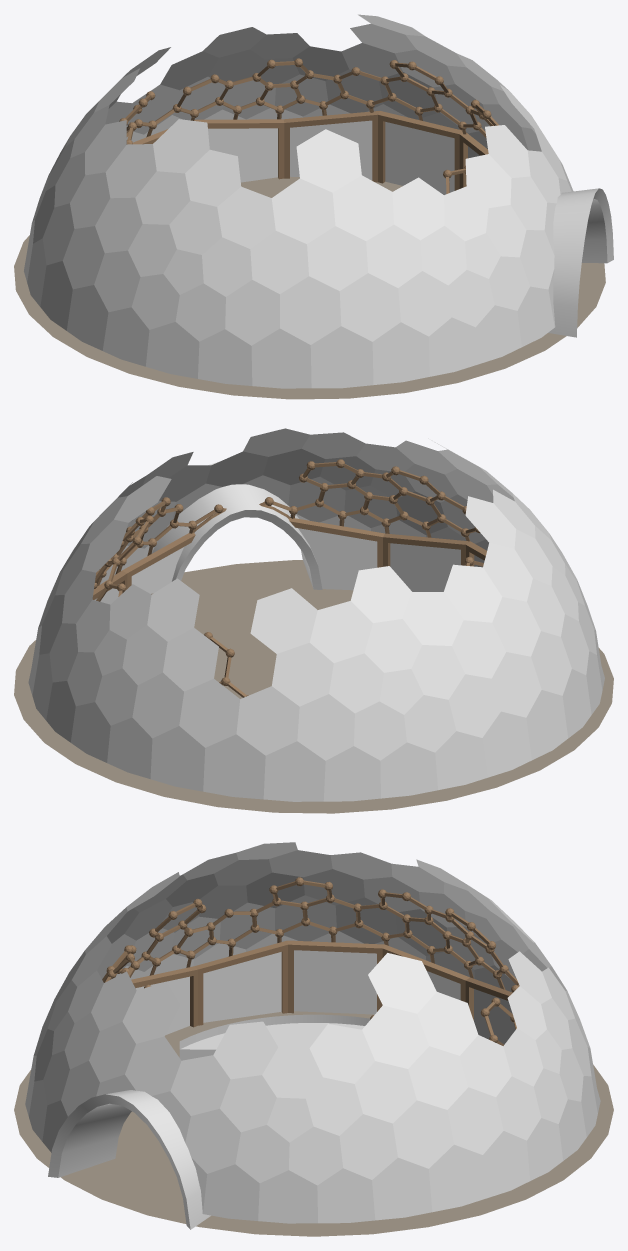
File: BOD_v8_Env.glb
3 views of the same model, one above another, from view 1: azimuth 30°, elevation 25°; view 2: azimuth 150°, elevation 25°; view 3: azimuth 270°, elevation 25° (orthographic).
Parts seen in each view (by area): view 1: Dome_v2_b_dissolving, Walls, Ground, Gate, Dome_v2_dissolving_wp, ICO球.097; view 2: Dome_v2_b_dissolving, Ground, Walls, Gate, Dome_v2_dissolving_wp, ICO球.097; view 3: Dome_v2_b_dissolving, Walls, Ground, Gate, Dome_v2_dissolving_wp, ICO球.097, Stage.
Part boxes in pixels (bbox=[...]): Dome_v2_b_dissolving: bbox=[24, 14, 573, 388]; Walls: bbox=[133, 111, 488, 194]; Ground: bbox=[14, 176, 605, 399]; Gate: bbox=[548, 188, 613, 337]; Dome_v2_dissolving_wp: bbox=[125, 61, 498, 193]; ICO球.097: bbox=[119, 58, 491, 178]; Dome_v2_b_dissolving: bbox=[28, 428, 604, 801]; Ground: bbox=[14, 560, 613, 813]; Walls: bbox=[92, 518, 486, 604]; Gate: bbox=[151, 461, 322, 589]; Dome_v2_dissolving_wp: bbox=[95, 462, 483, 697]; ICO球.097: bbox=[94, 459, 480, 696]; Dome_v2_b_dissolving: bbox=[25, 842, 600, 1223]; Walls: bbox=[131, 940, 515, 1044]; Ground: bbox=[14, 1011, 613, 1236]; Gate: bbox=[48, 1090, 210, 1229]; Dome_v2_dissolving_wp: bbox=[102, 880, 519, 1045]; ICO球.097: bbox=[106, 877, 518, 1042]; Stage: bbox=[179, 1014, 370, 1060].
Size of the model in its own units: 2 by 0.8468 by 2.
